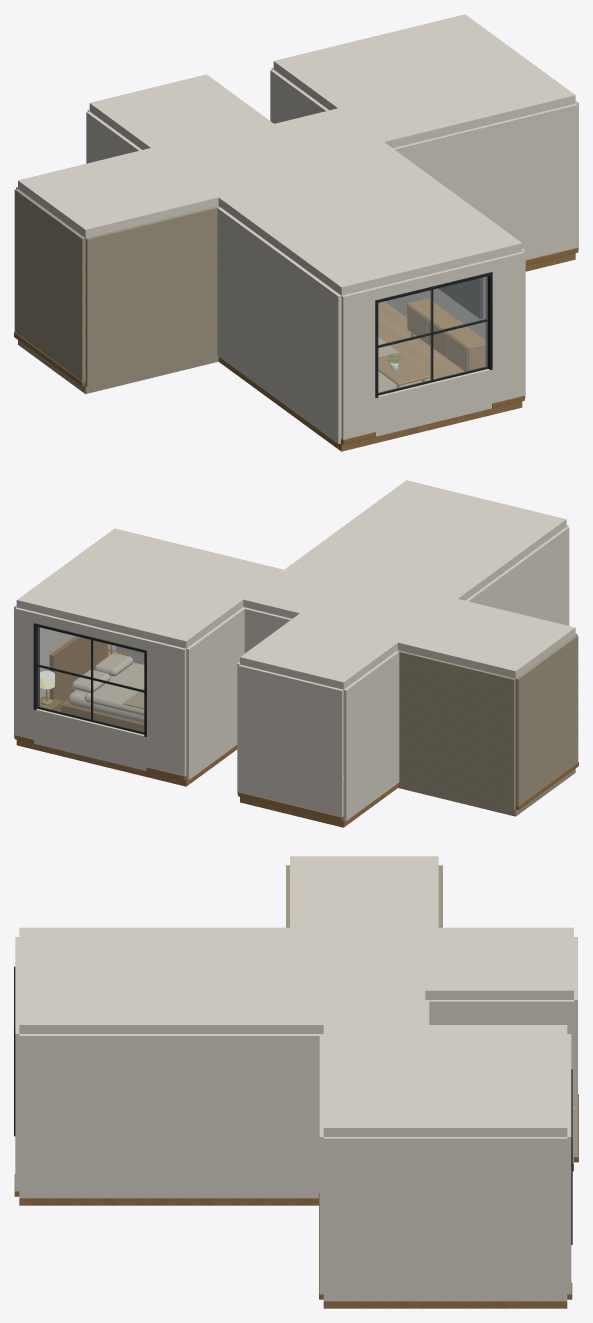
File: room.glb
3 renders of one model, top to bottom at view 1: azimuth 30°, elevation 25°; view 2: azimuth 150°, elevation 25°; view 3: azimuth 270°, elevation 25°, orthographic. The views are drawn at different scales.
Visible parts, largest first — view 1: Ceiling_living, Ceiling_bedroom, Bath_W_last, Living_W_last, Bedroom_S_last, Ceiling_bathroom, Bath_N_last, L_WINDOW_glass, Ceiling_kitchen, Ceiling_hall, Living_S_solid0, Living_S_sill0 (+11 smaller); view 2: Ceiling_living, Ceiling_bedroom, Bath_E_last, Kitchen_N_last, Ceiling_bathroom, Bath_N_last, B_WINDOW_glass, Kitchen_W_last, Ceiling_kitchen, Bedroom_W_last, Ceiling_hall, Living_W_last (+17 smaller); view 3: Living_E_last, Bedroom_E_last, Ceiling_living, Ceiling_bedroom, Ceiling_kitchen, Ceiling_bathroom, Ceiling_hall, Kitchen_E_last, Floor_living, Floor_bedroom, Bedroom_S_last, Kitchen_N_last (+2 smaller).
Boxes of the visible parts, <box> form: Ceiling_living: <box>203,142,522,295</box>; Ceiling_bedroom: <box>273,14,575,147</box>; Bath_W_last: <box>85,206,219,386</box>; Living_W_last: <box>217,207,341,443</box>; Bedroom_S_last: <box>393,103,577,259</box>; Ceiling_bathroom: <box>18,148,218,237</box>; Bath_N_last: <box>14,189,85,381</box>; L_WINDOW_glass: <box>378,276,487,392</box>; Ceiling_kitchen: <box>89,74,273,152</box>; Ceiling_hall: <box>157,108,383,185</box>; Living_S_solid0: <box>341,288,375,439</box>; Living_S_sill0: <box>375,369,492,436</box>; Ceiling_living: <box>284,480,566,608</box>; Ceiling_bedroom: <box>16,528,283,648</box>; Bath_E_last: <box>396,650,515,810</box>; Kitchen_N_last: <box>238,664,343,816</box>; Ceiling_bathroom: <box>398,599,575,678</box>; Bath_N_last: <box>515,635,578,805</box>; B_WINDOW_glass: <box>38,627,143,732</box>; Kitchen_W_last: <box>343,651,399,820</box>; Ceiling_kitchen: <box>240,613,402,689</box>; Bedroom_W_last: <box>186,607,245,779</box>; Ceiling_hall: <box>243,570,443,638</box>; Living_W_last: <box>466,526,569,625</box>; Living_E_last: <box>19,1034,319,1198</box>; Bedroom_E_last: <box>323,1137,567,1301</box>; Ceiling_living: <box>19,927,323,1033</box>; Ceiling_bedroom: <box>323,1025,567,1136</box>; Ceiling_kitchen: <box>425,927,573,999</box>; Ceiling_bathroom: <box>290,856,438,927</box>; Ceiling_hall: <box>323,927,425,1024</box>; Kitchen_E_last: <box>427,1000,573,1163</box>; Floor_living: <box>19,1198,318,1205</box>; Floor_bedroom: <box>323,1301,567,1308</box>; Bedroom_S_last: <box>319,1034,323,1293</box>; Kitchen_N_last: <box>574,937,577,1156</box>.
Size of the model in its own units: 9.63 by 2.95 by 8.35.
13 materials, 5 textured.
